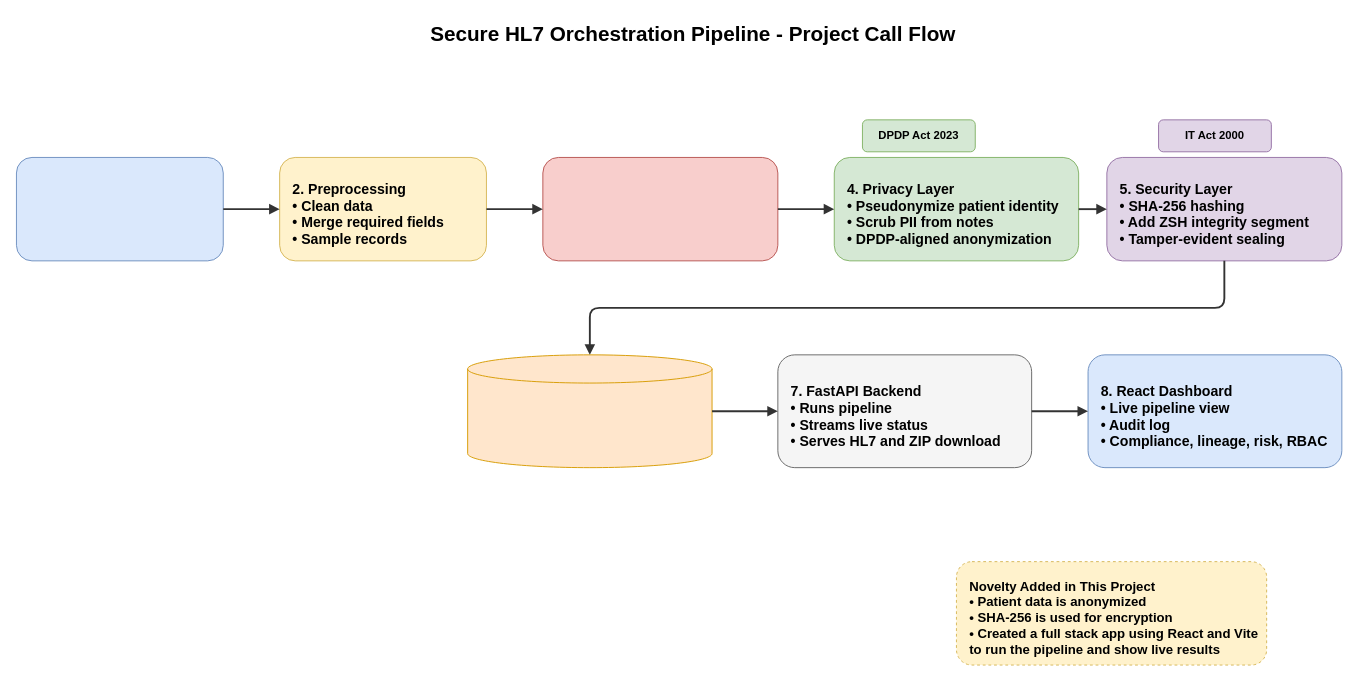
Some shapes in this 1358 by 682 pixel diagram are drawn without their labels. The centre of each missing label's shape, as x and y in pixels:
1. Input Data • MIMIC-IV dataset • Generic CSV upload: (119,209)
3. HL7 Mapping Engine • Build ORU^R01 message • Generate MSH / PID / OBR / OBX: (660,209)
6. Output Files • Signed HL7 files in output/ • One file per processed record: (589,411)
